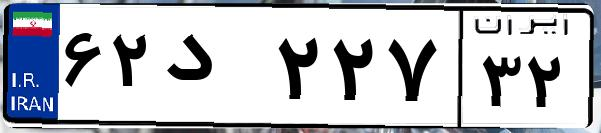2: (270, 28, 330, 110), (330, 28, 385, 110), (525, 38, 570, 115), (110, 28, 158, 98)
3: (475, 38, 525, 113)
6: (57, 26, 110, 100)
7: (385, 28, 445, 110)
د: (158, 20, 270, 120)
